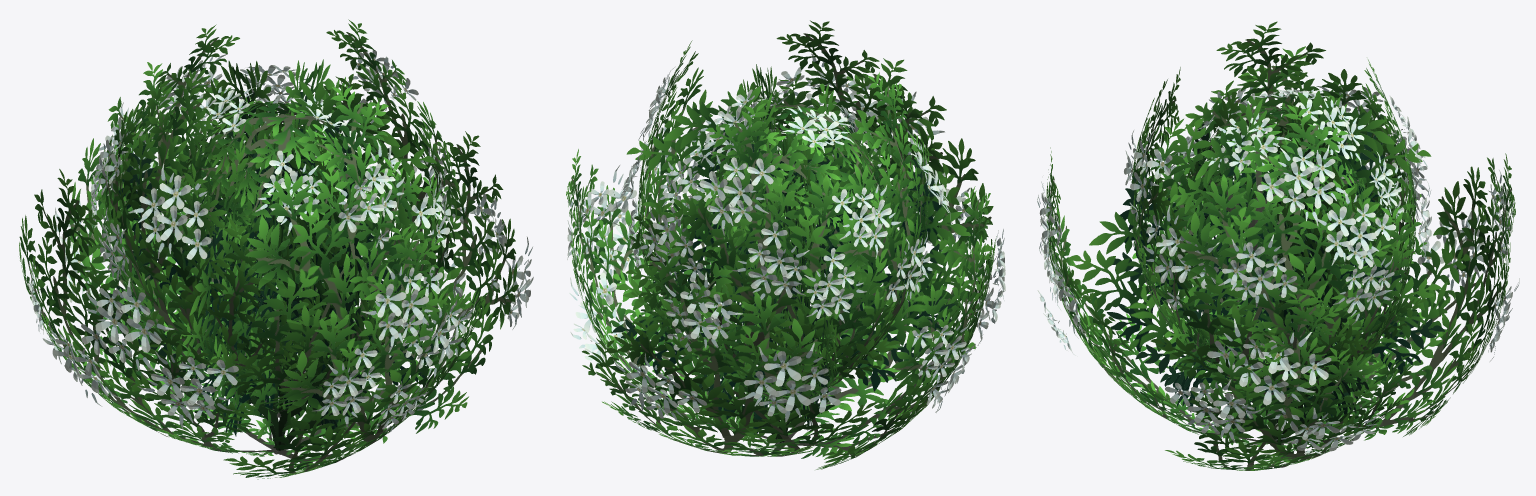
Rendered from bush2.glb.
The picture shows the model from 3 angles, left to right: view 1: azimuth 30°, elevation 25°; view 2: azimuth 150°, elevation 25°; view 3: azimuth 270°, elevation 25°; orthographic projection. The views are drawn at different scales.
Visible parts, largest first — view 1: leaves(noColl).007, flowers(noColl)(light); view 2: leaves(noColl).007, flowers(noColl)(light); view 3: leaves(noColl).007, flowers(noColl)(light).
Part boxes in pixels (x1=…): leaves(noColl).007: x1=19, y1=19, x2=518, y2=479; flowers(noColl)(light): x1=28, y1=47, x2=533, y2=432; leaves(noColl).007: x1=566, y1=20, x2=996, y2=469; flowers(noColl)(light): x1=567, y1=53, x2=1005, y2=422; leaves(noColl).007: x1=1046, y1=21, x2=1515, y2=470; flowers(noColl)(light): x1=1037, y1=80, x2=1519, y2=454.
Size of what is drawn, in the model's own units: 5.61 by 5.3 by 5.6.
Materials: 2 (2 with a texture image).
